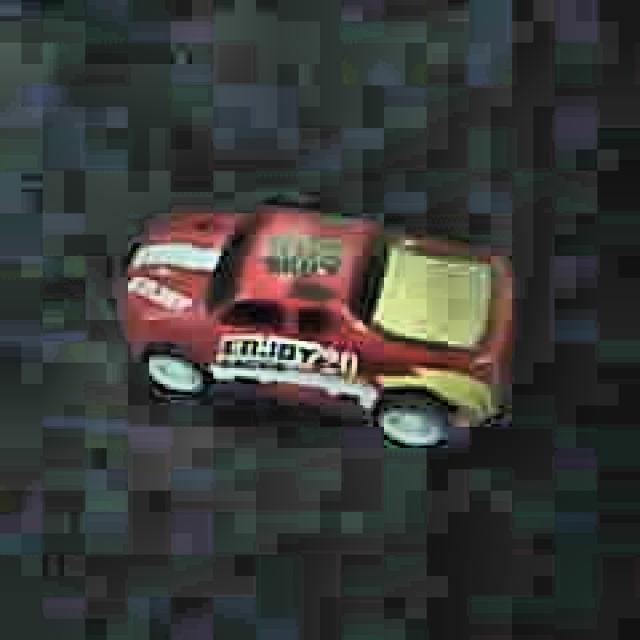car: (115, 200, 519, 457)
